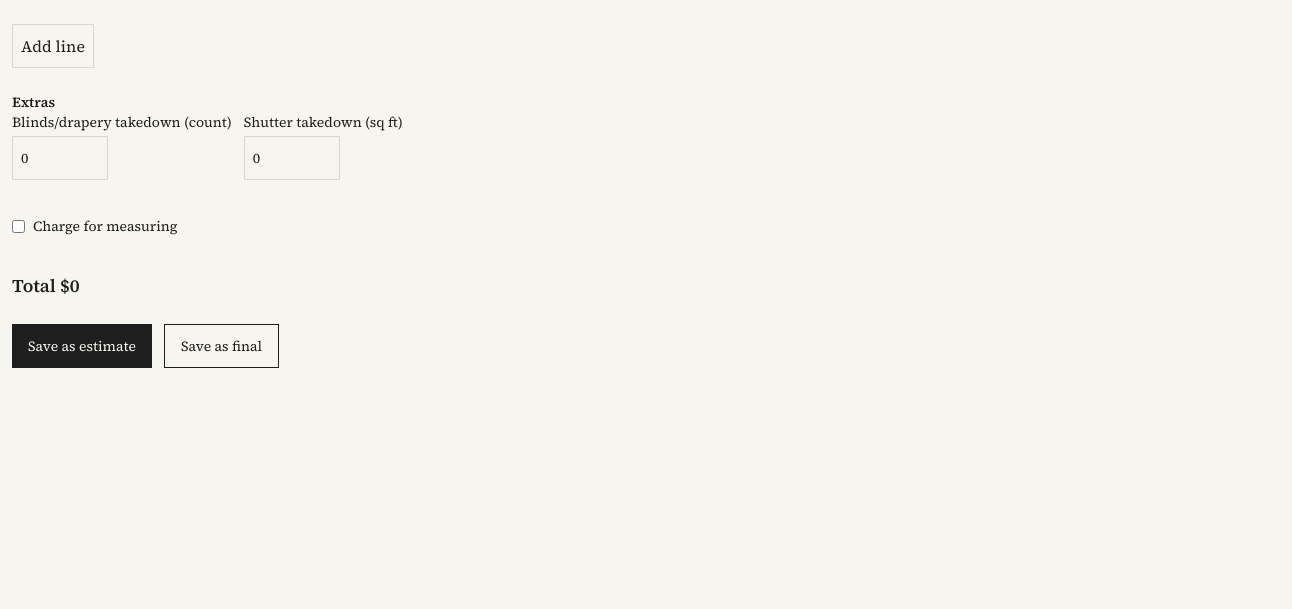
Test: InstallCalculator › keeps each line's typed width with that line when an earlier line is removed
The width and height of the screenshot is (1292, 609).
Click the button "Add line" at (53, 46), box [12,24,94,68]
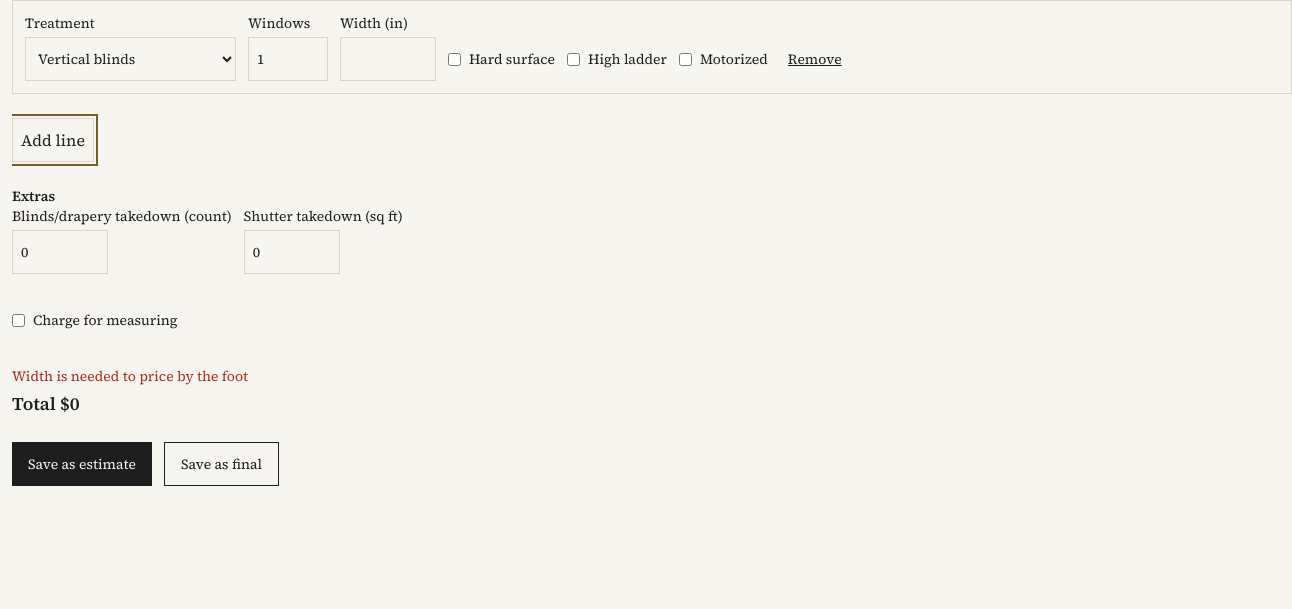
Type "30" into the field labelled "Width (in)" at (388, 59), box [340,37,436,81]
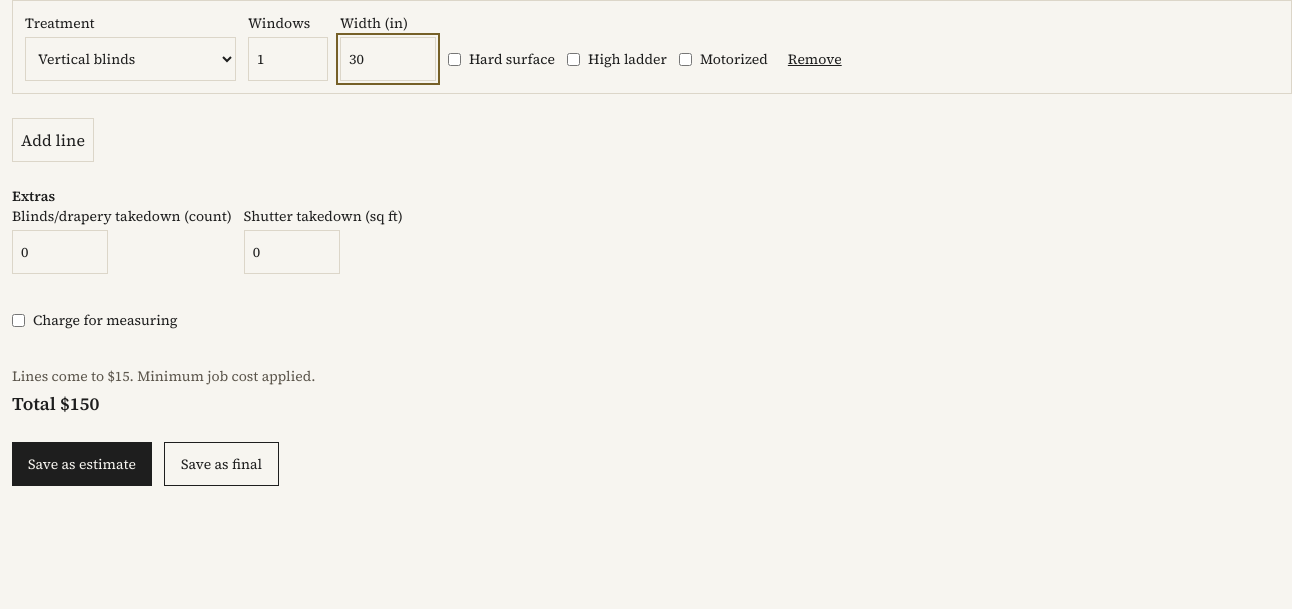
Click the button "Add line" at (53, 140), box [12,118,94,162]
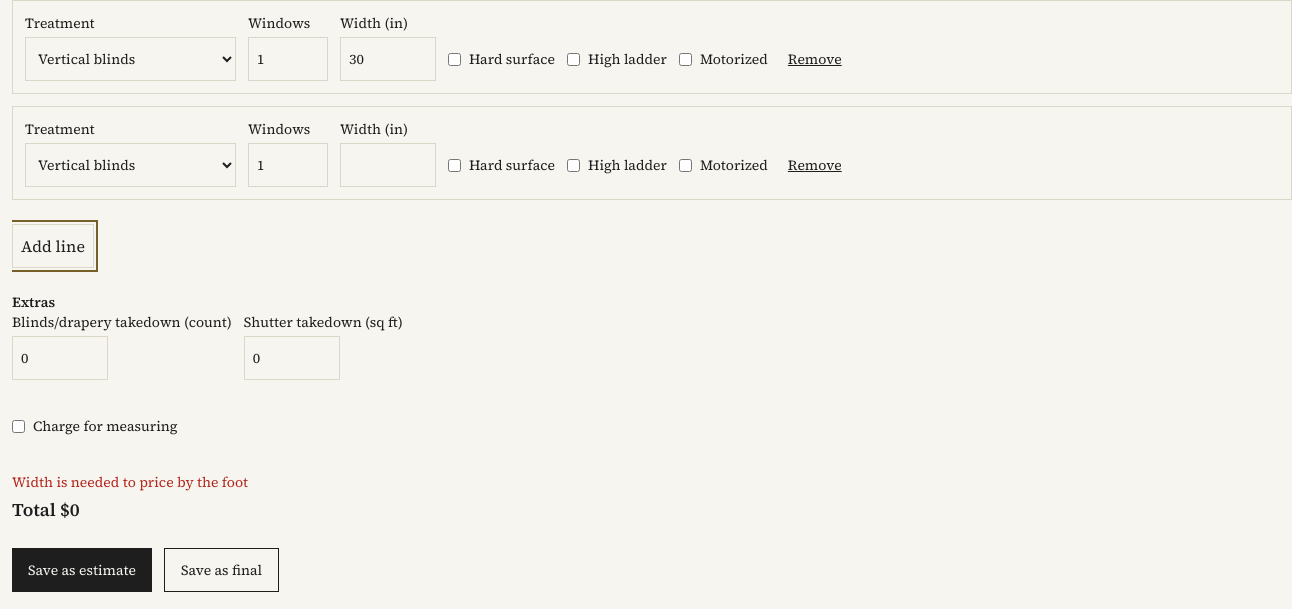
Type "48" into the 2nd field labelled "Width (in)" at (388, 165), box [340,143,436,187]
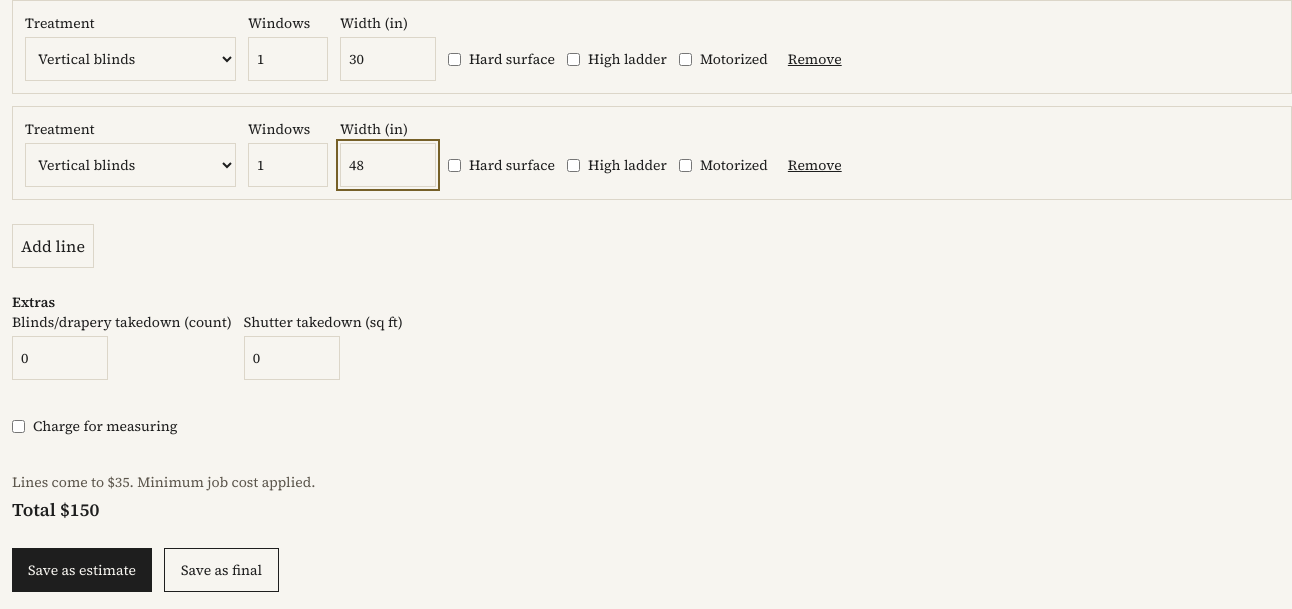
Click the 1st button "Remove" at (815, 59), box [780,37,850,81]
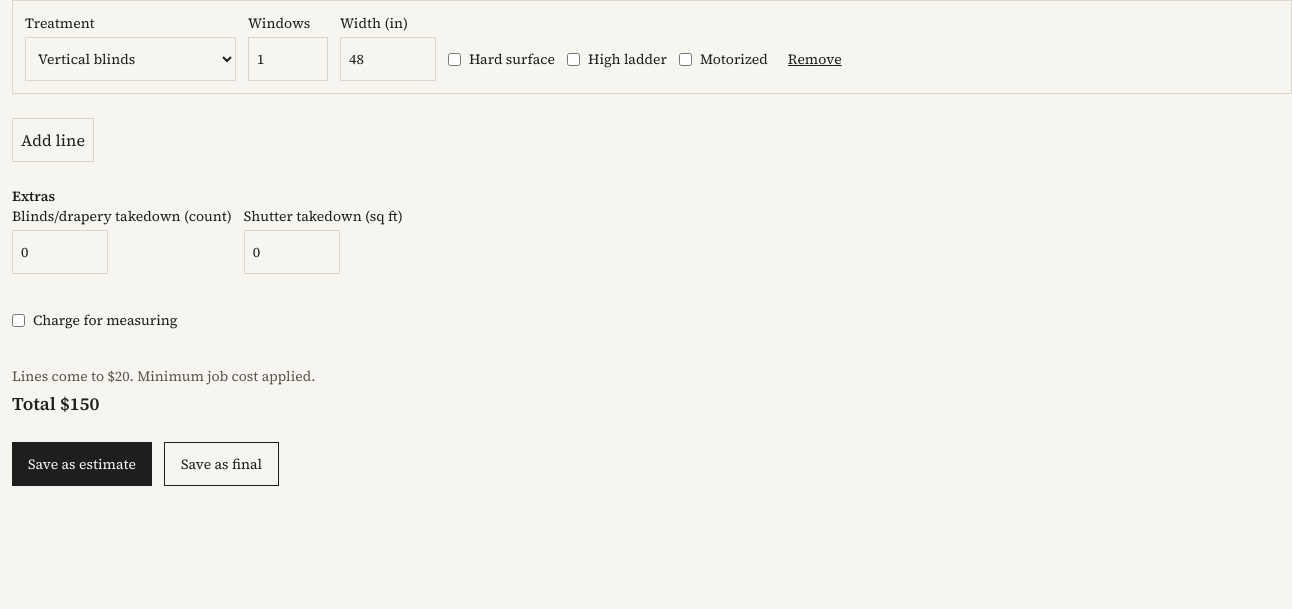
Now the number of fields labelled "Width (in)" is 1, box [340,37,436,81]
